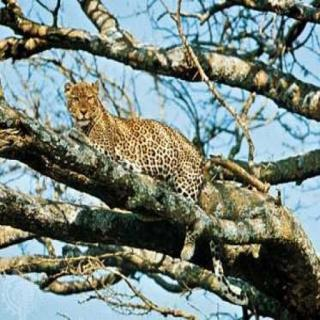Leopard: (51, 64, 243, 274)
